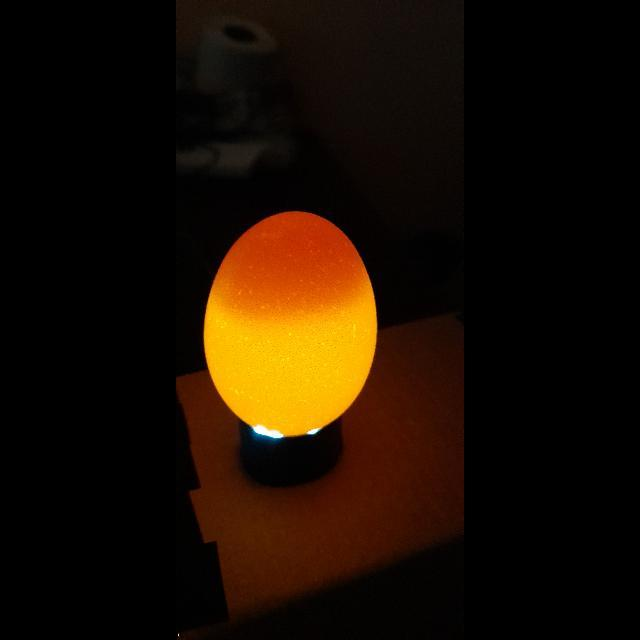Fertile: (208, 194, 376, 430)
